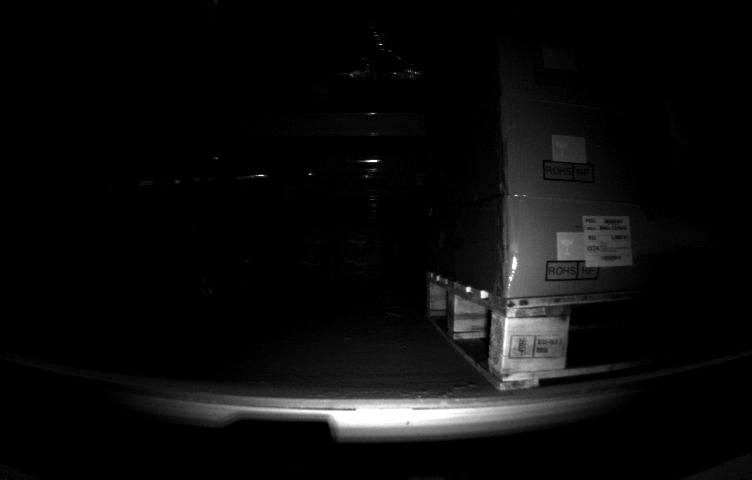True Barcode: (580, 211, 636, 268)
